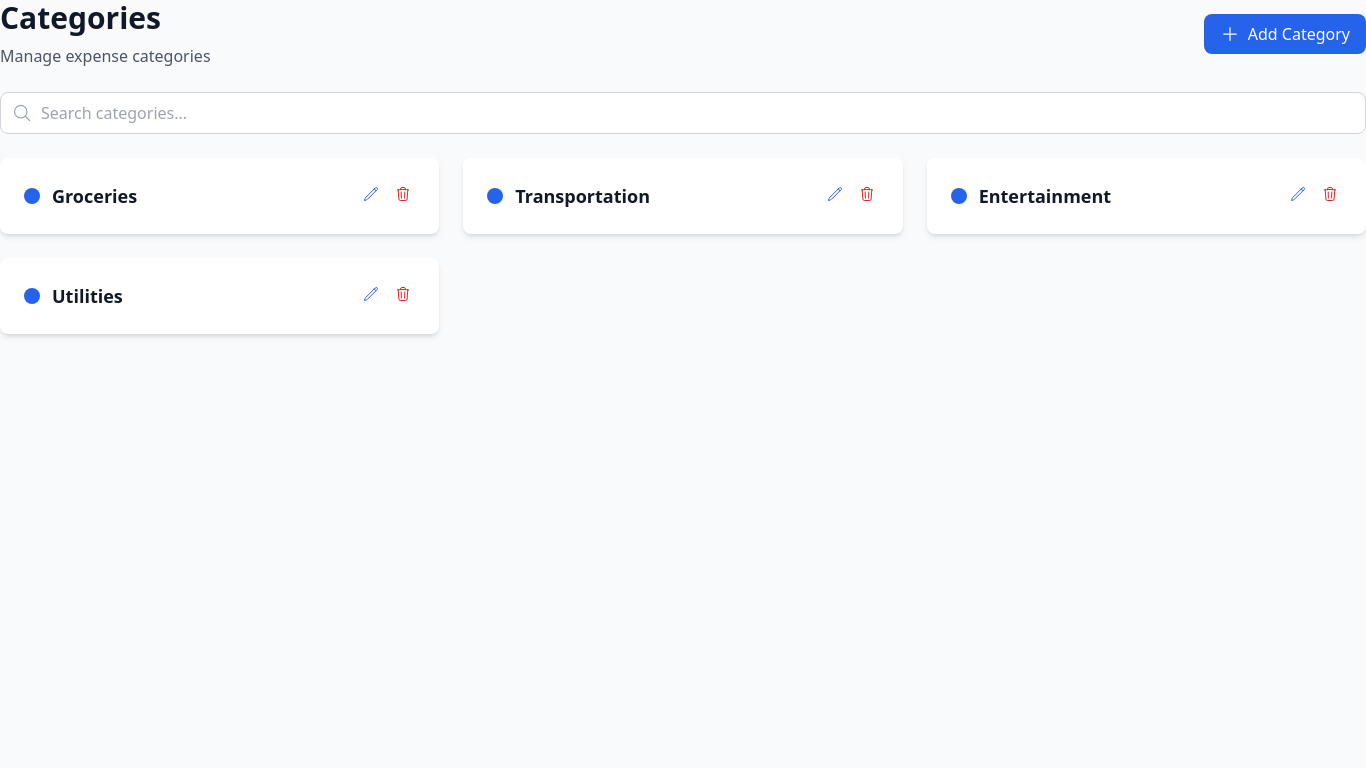
it: Categories › CRUD Operations › opens create category modal when Add Category button is clicked
Click the button "Add Category": (1285,34) [1204,14,1365,54]
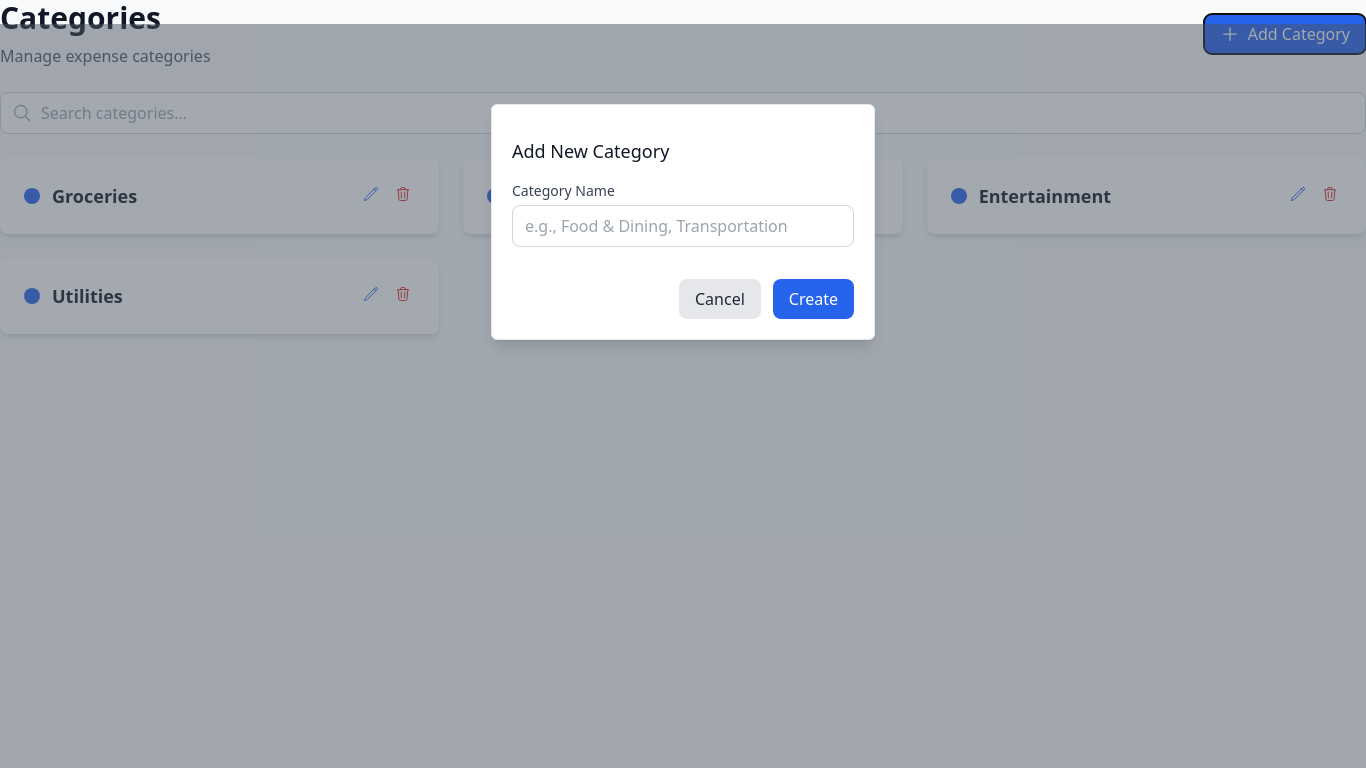
Now the heading "Add New Category" is shown, box [512,139,669,163]
Now the field with placeholder "e.g., Food & Dining, Transportation" is shown, box [512,205,854,247]
